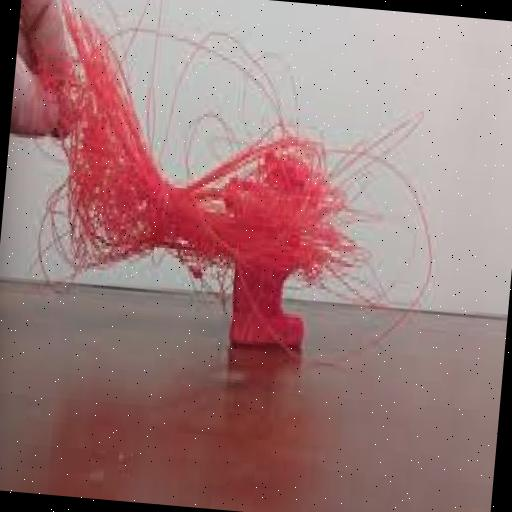spaghetti: (51, 32, 402, 282)
